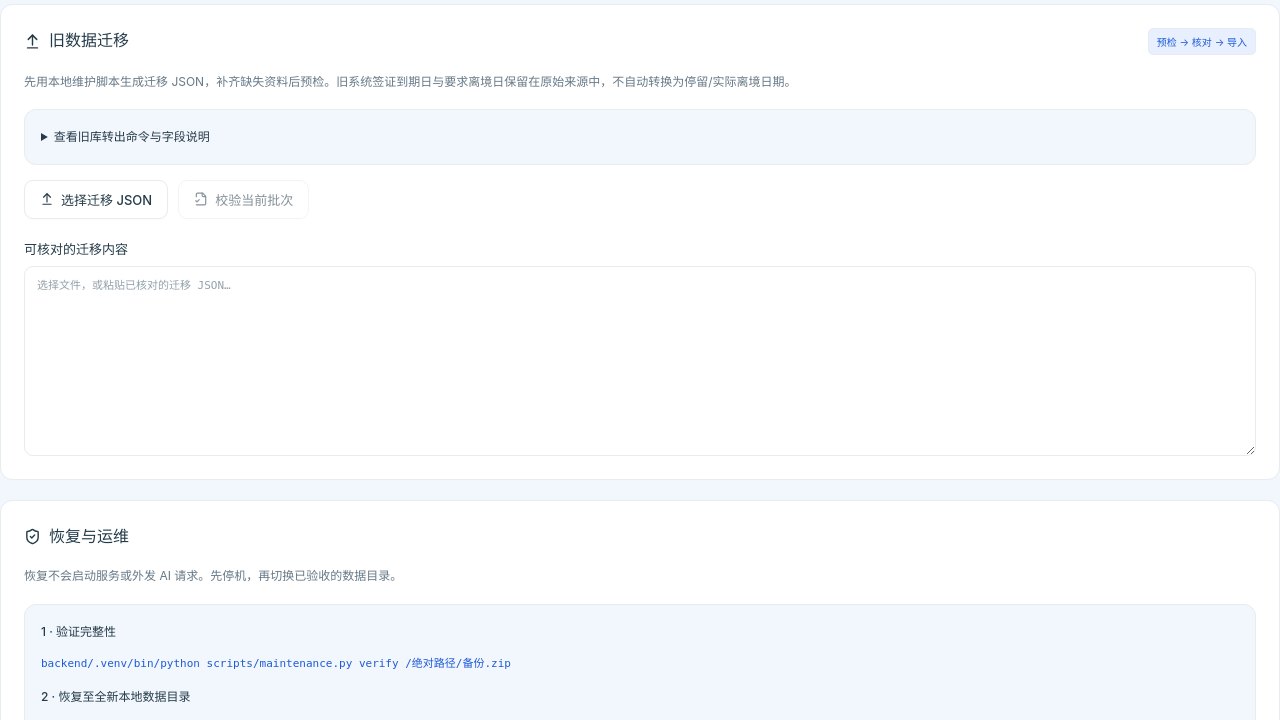
reports malformed migration JSON locally and never submits it
(page scrolled)
Type "not-json" into the text box named "迁移 JSON". click: (640, 361)
box: left=24, top=266, right=1256, bottom=456
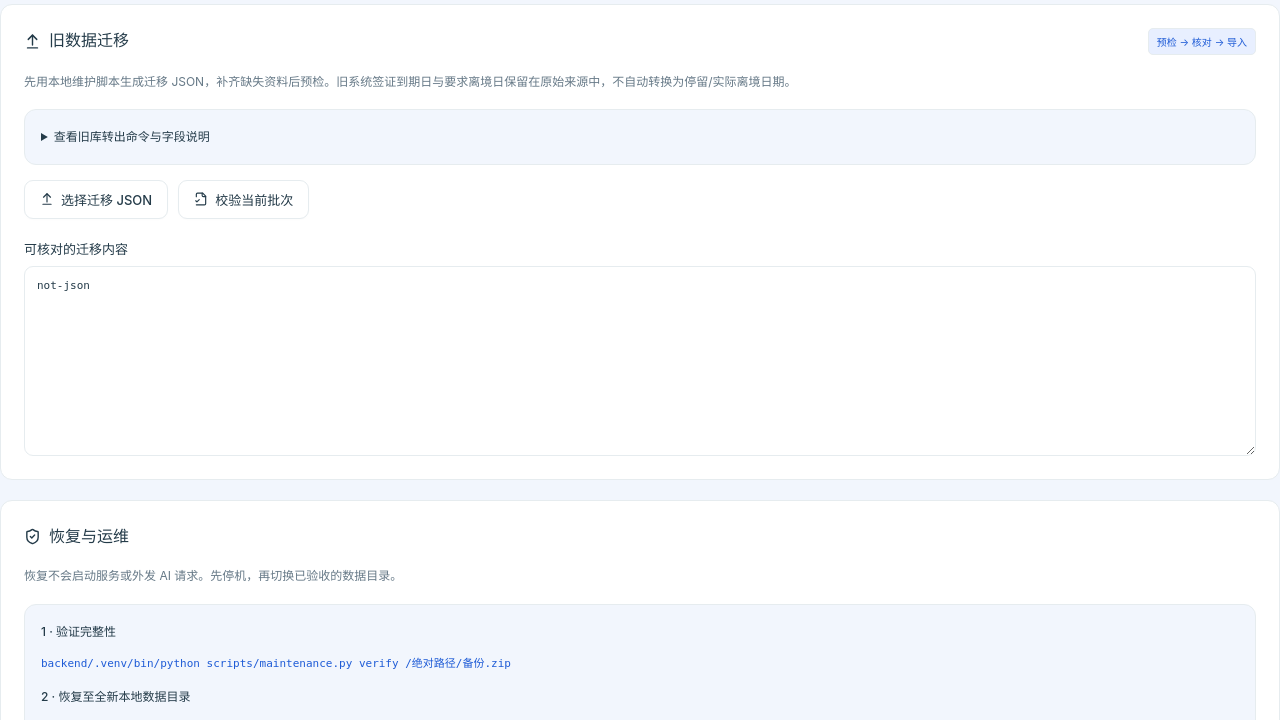
Click the button "校验当前批次". click: (244, 199)
box: left=178, top=180, right=309, bottom=219
(page scrolled)
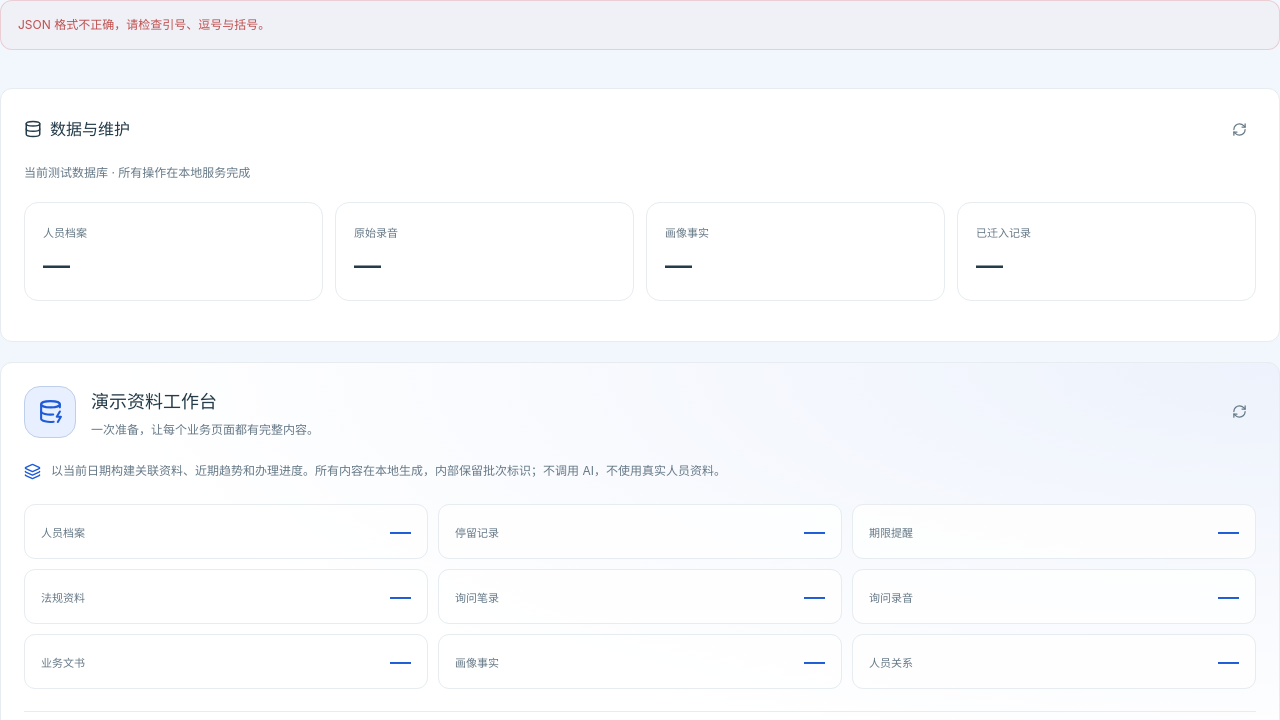
Expected: the message shows "JSON 格式不正确", left=18, top=17, right=270, bottom=32
